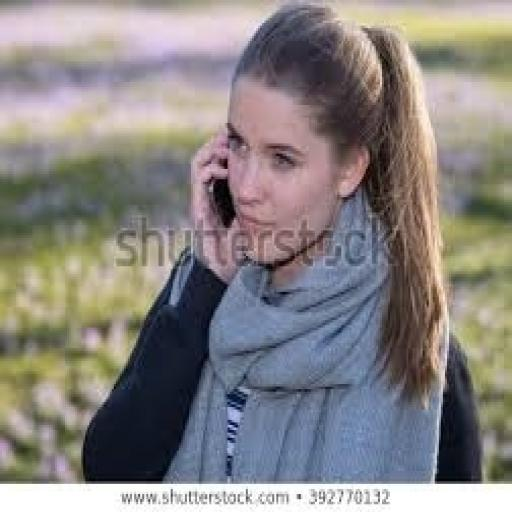calling: (79, 0, 482, 484)
